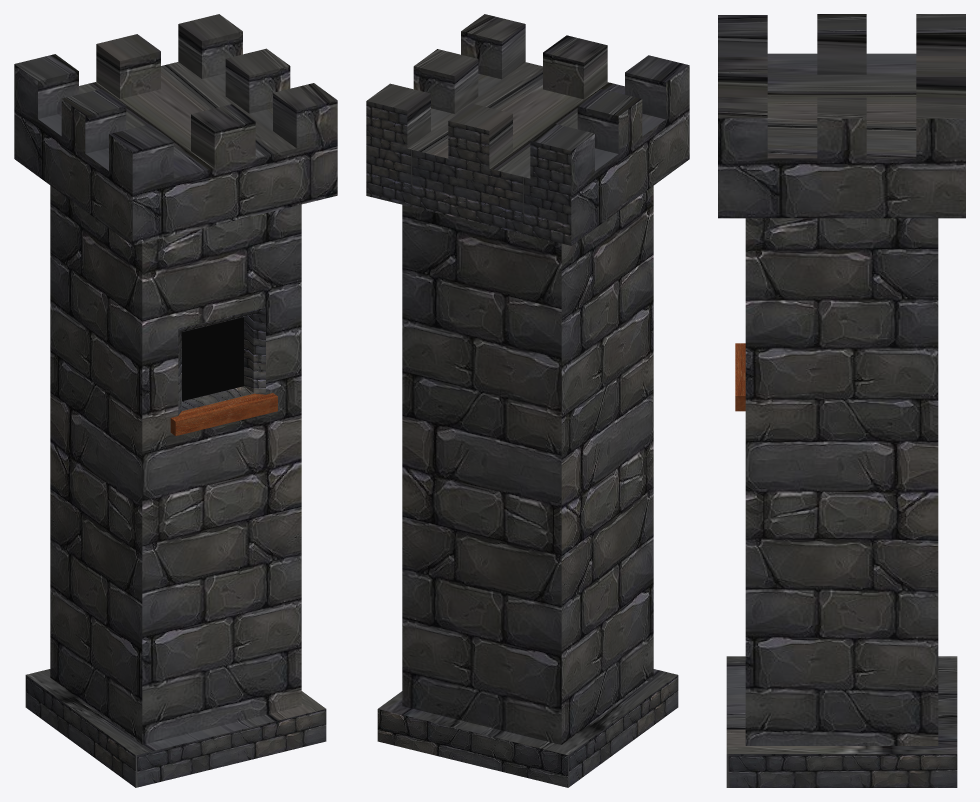
File: tower.fbx
The picture shows the model from 3 angles, left to right: view 1: azimuth 30°, elevation 25°; view 2: azimuth 150°, elevation 25°; view 3: azimuth 270°, elevation 25°; orthographic projection. The views are drawn at different scales.
Parts seen in each view (by area): view 1: Tower; view 2: Tower; view 3: Tower.
Boxes of the visible parts, x1,y1,x2,y2 form: Tower: (14, 14, 337, 787); Tower: (366, 14, 689, 787); Tower: (718, 14, 965, 787).
Bounding box in the file's own units: 4.62 × 13.84 × 4.62.
6 materials, 4 textured.
